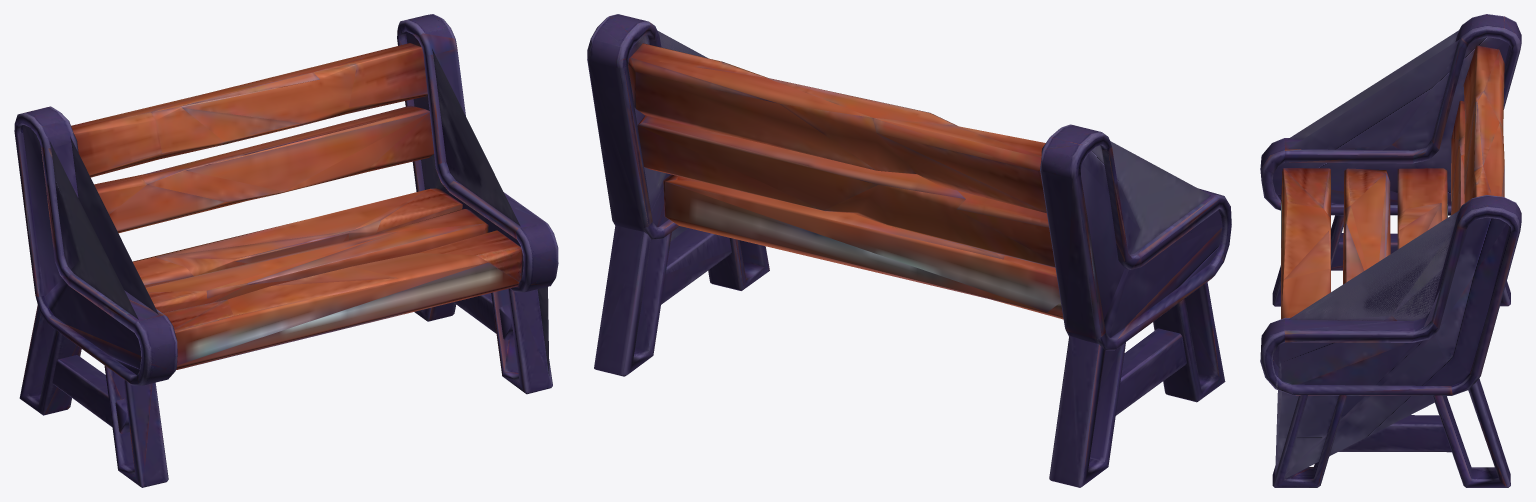
The model's file is bench.glb.
3 renders of one model, left to right at view 1: azimuth 30°, elevation 25°; view 2: azimuth 150°, elevation 25°; view 3: azimuth 270°, elevation 25°, orthographic. The views are drawn at different scales.
Size of the model in its own units: 0.9478 by 0.6363 by 0.5356.
Materials: 1 (1 with a texture image).
